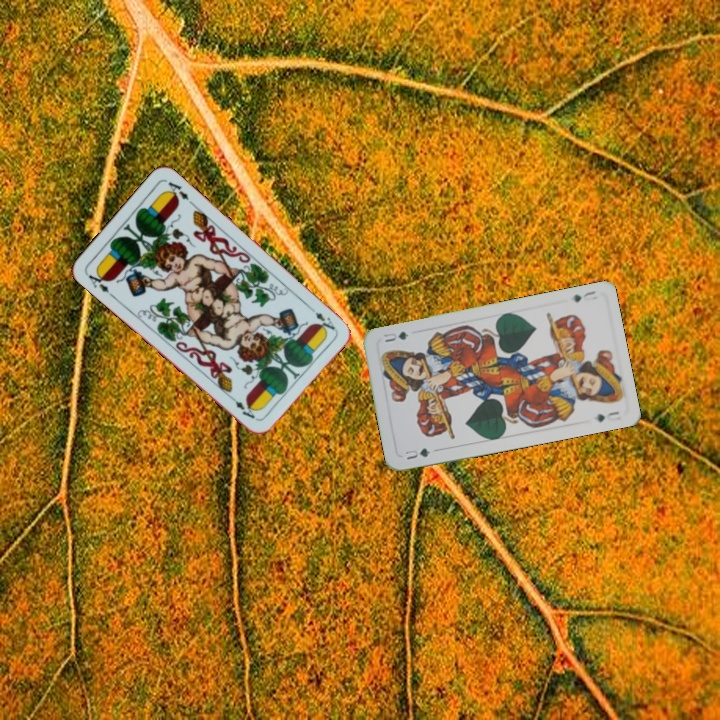EA: (84, 267, 116, 300), (304, 302, 337, 333)
GU: (401, 444, 433, 462), (569, 287, 599, 305)
